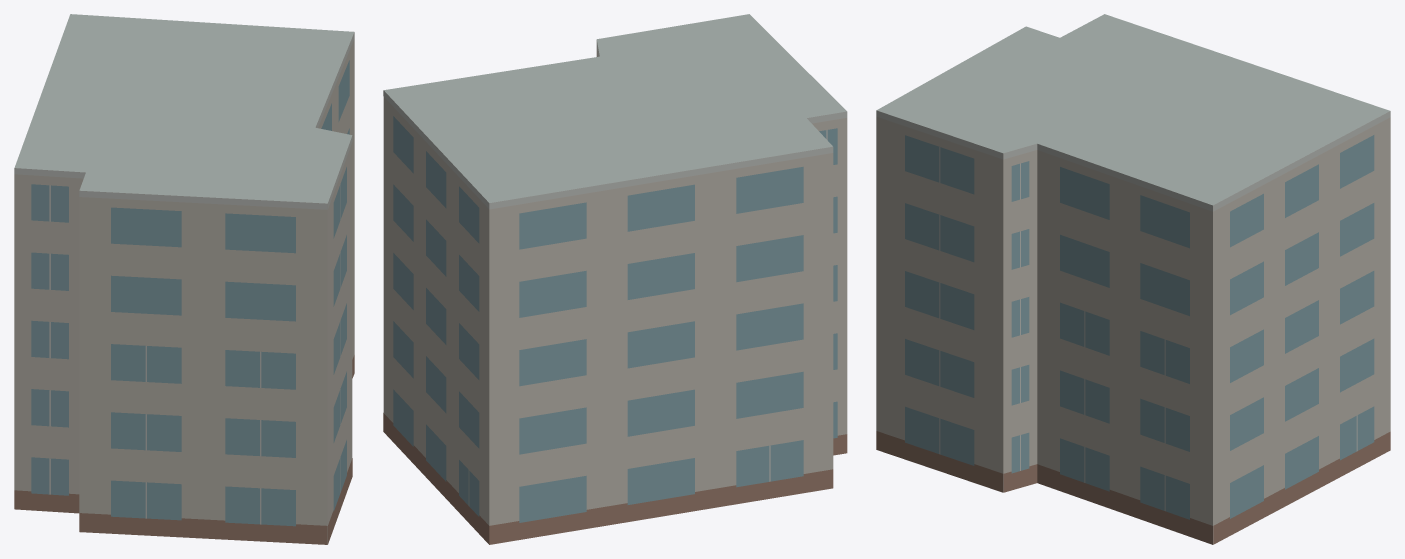
Rendered from survey-upis-32855231.glb.
3 views of the same model, side by side, from view 1: azimuth 30°, elevation 25°; view 2: azimuth 150°, elevation 25°; view 3: azimuth 270°, elevation 25° (orthographic).
Visible parts, largest first — view 1: survey-upis-32855231.tmp; view 2: survey-upis-32855231.tmp; view 3: survey-upis-32855231.tmp.
Boxes of the visible parts, x1=… form: survey-upis-32855231.tmp: x1=14, y1=14, x2=354, y2=544; survey-upis-32855231.tmp: x1=383, y1=14, x2=847, y2=544; survey-upis-32855231.tmp: x1=876, y1=14, x2=1390, y2=544.
Size of the model in its own units: 16.07 by 13.27 by 18.23.
